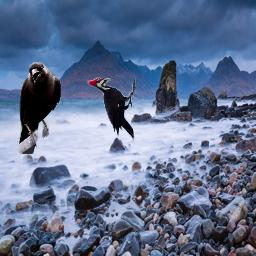Crow: (18, 62, 61, 154)
Woodpecker: (87, 77, 136, 142)
